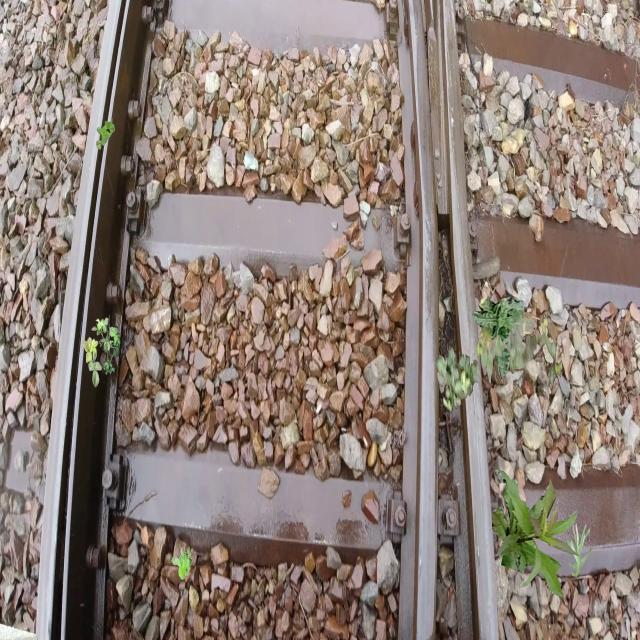Plant: (492, 468, 580, 598), (476, 317, 562, 386), (472, 297, 536, 380), (436, 347, 479, 414), (83, 314, 120, 388), (566, 521, 592, 578), (171, 547, 192, 580), (96, 117, 115, 150)
